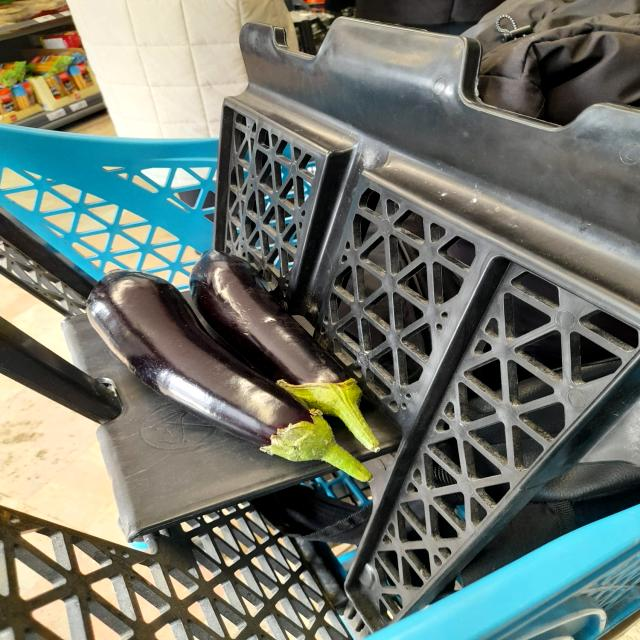eggplant: (73, 265, 380, 484), (185, 242, 387, 457)
